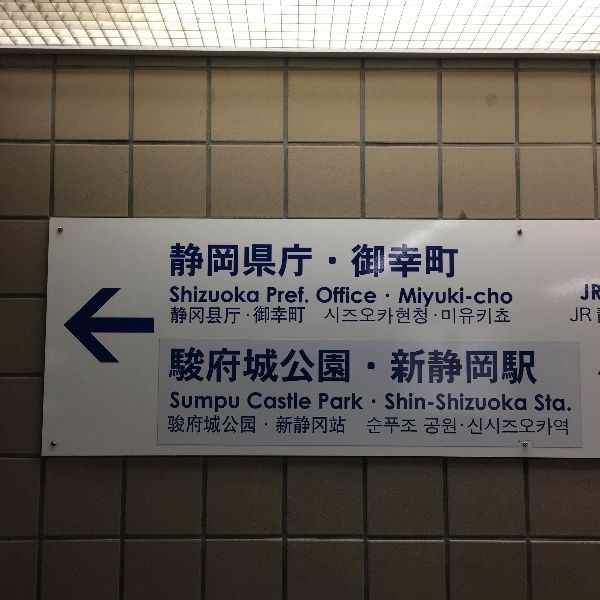text: (177, 345, 192, 386), (193, 345, 208, 386), (209, 345, 224, 386), (225, 345, 240, 386), (241, 345, 256, 386), (257, 345, 272, 386), (273, 345, 288, 386), (289, 345, 304, 386), (305, 345, 320, 386), (321, 345, 336, 386), (337, 345, 352, 386), (177, 240, 192, 280), (193, 240, 208, 280), (209, 240, 224, 280), (225, 240, 240, 280), (241, 240, 256, 280), (257, 240, 272, 280), (273, 240, 288, 280), (289, 240, 304, 280), (305, 240, 320, 280), (321, 240, 336, 280), (337, 240, 352, 280), (353, 240, 368, 280), (369, 240, 384, 280), (385, 240, 400, 280), (401, 240, 416, 280), (417, 240, 432, 280), (433, 240, 448, 280), (401, 347, 416, 387), (417, 347, 432, 387), (433, 347, 448, 387), (449, 347, 464, 387), (465, 347, 480, 387), (481, 347, 496, 387), (497, 347, 512, 387), (513, 347, 528, 387), (449, 240, 461, 280), (321, 283, 336, 311), (337, 283, 352, 311), (353, 283, 368, 311), (369, 283, 384, 311), (390, 347, 400, 387), (177, 283, 192, 308), (193, 283, 208, 308), (209, 283, 224, 308), (225, 283, 240, 308), (241, 283, 256, 308), (513, 390, 529, 413), (273, 284, 288, 308), (289, 284, 304, 308), (401, 284, 416, 308), (417, 284, 432, 308), (433, 284, 448, 308), (449, 284, 464, 308), (465, 284, 480, 308), (481, 284, 496, 308), (497, 284, 512, 308), (177, 303, 192, 327), (193, 303, 208, 327), (209, 303, 224, 327), (225, 303, 240, 327), (241, 303, 256, 327), (257, 303, 272, 327), (273, 303, 288, 327), (289, 303, 304, 327), (529, 347, 538, 387), (177, 389, 192, 413), (193, 389, 208, 413), (209, 389, 224, 413), (225, 389, 240, 413), (257, 389, 272, 413), (273, 389, 288, 413), (289, 389, 304, 413), (545, 391, 560, 415), (481, 415, 496, 439), (497, 415, 512, 439), (513, 415, 528, 439), (529, 415, 544, 439), (545, 415, 560, 439), (385, 390, 400, 413), (401, 390, 416, 413), (417, 390, 432, 413), (433, 390, 448, 413), (449, 390, 464, 413), (465, 390, 480, 413), (481, 390, 496, 413), (497, 390, 512, 413), (241, 415, 257, 436), (449, 416, 465, 437), (369, 415, 384, 437), (385, 415, 400, 437), (401, 415, 416, 437), (577, 305, 593, 325), (321, 391, 336, 412), (337, 391, 352, 412), (177, 415, 192, 436), (193, 415, 208, 436), (209, 415, 224, 436), (225, 415, 240, 436), (289, 416, 304, 437), (305, 416, 320, 437), (321, 416, 336, 437), (433, 416, 448, 437), (467, 415, 480, 439), (337, 307, 352, 326), (353, 307, 368, 326), (369, 307, 384, 326), (385, 307, 400, 326), (401, 307, 416, 326), (417, 307, 432, 326), (433, 307, 448, 326), (449, 307, 464, 326), (465, 307, 480, 326), (481, 307, 496, 326), (497, 307, 512, 326), (561, 391, 572, 415), (580, 282, 592, 303), (276, 416, 288, 437), (170, 345, 176, 386), (561, 415, 571, 439), (353, 391, 364, 412), (324, 307, 336, 326), (535, 391, 544, 415), (337, 416, 347, 437), (171, 240, 176, 280), (385, 283, 392, 311), (248, 389, 256, 413), (305, 389, 313, 413), (167, 415, 176, 436), (169, 283, 176, 308), (424, 416, 432, 437), (593, 282, 600, 303), (305, 284, 311, 308), (257, 283, 262, 308), (267, 284, 272, 308), (171, 303, 176, 327), (171, 389, 176, 413), (570, 305, 576, 325), (316, 283, 320, 311), (595, 304, 600, 325), (369, 360, 377, 373), (371, 398, 384, 406), (513, 284, 516, 308), (265, 422, 272, 429), (398, 284, 400, 308), (305, 303, 307, 327), (367, 415, 368, 437), (417, 415, 418, 437), (319, 391, 320, 412)
